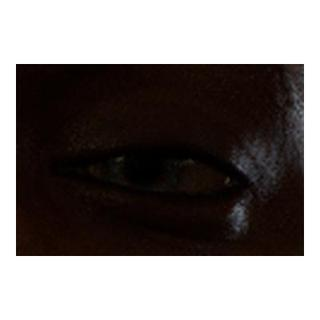pupil: (127, 151, 160, 184)
